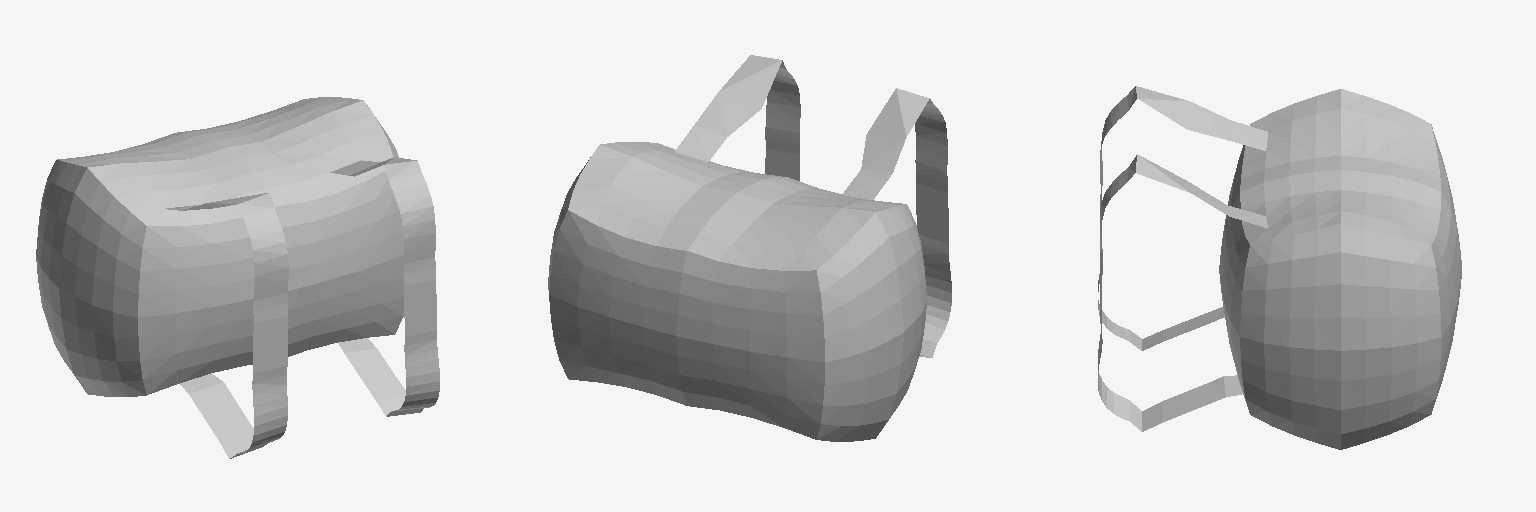
File: backpack_0_dense2.obj
3 renders of one model, left to right at view 1: azimuth 30°, elevation 25°; view 2: azimuth 150°, elevation 25°; view 3: azimuth 270°, elevation 25°, orthographic.
Visible parts, largest first — view 1: backpack_0.002; view 2: backpack_0.002; view 3: backpack_0.002.
Part boxes in pixels (x1,y1,x2,y2): backpack_0.002: (36, 97, 439, 458); backpack_0.002: (548, 55, 951, 441); backpack_0.002: (1098, 86, 1461, 449).
Bounding box in the file's own units: 0.7388 × 0.549 × 0.6999.